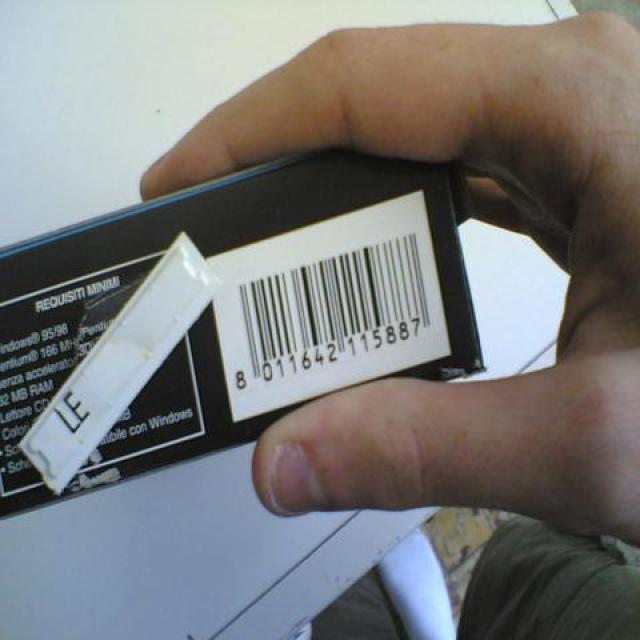Barcode: (203, 190, 454, 418)
